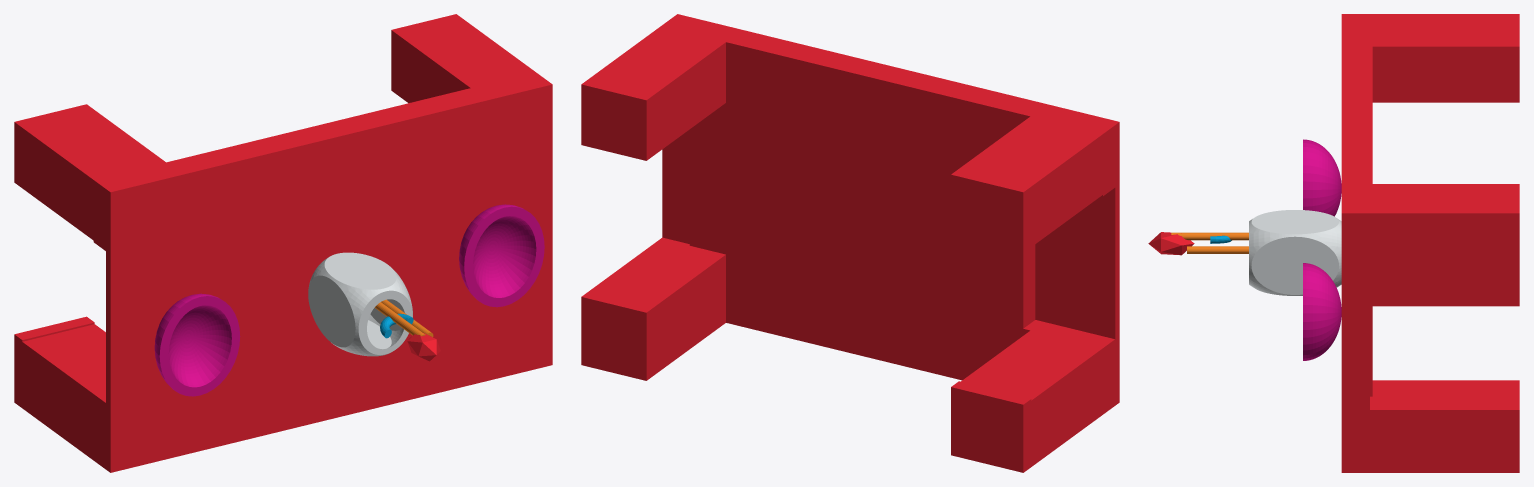
Rendered from tinker.obj.
The picture shows the model from 3 angles, left to right: view 1: azimuth 30°, elevation 25°; view 2: azimuth 150°, elevation 25°; view 3: azimuth 270°, elevation 25°; orthographic projection. The views are drawn at different scales.
Parts seen in each view (by area): view 1: group_0_15277357, group_0_14093196, group_0_14541540, group_0_16089887; view 2: group_0_15277357; view 3: group_0_15277357, group_0_14541540, group_0_14093196, group_0_16089887.
Part boxes in pixels (box(x1,y1,x2,y2)): group_0_15277357: box(14, 14, 552, 472); group_0_14093196: box(154, 204, 544, 396); group_0_14541540: box(308, 252, 412, 356); group_0_16089887: box(374, 299, 433, 337); group_0_15277357: box(581, 14, 1119, 472); group_0_15277357: box(1148, 14, 1519, 472); group_0_14541540: box(1249, 210, 1341, 295); group_0_14093196: box(1303, 139, 1341, 360); group_0_16089887: box(1171, 232, 1248, 253).
Bounding box in the file's own units: 61 × 37 × 48.
